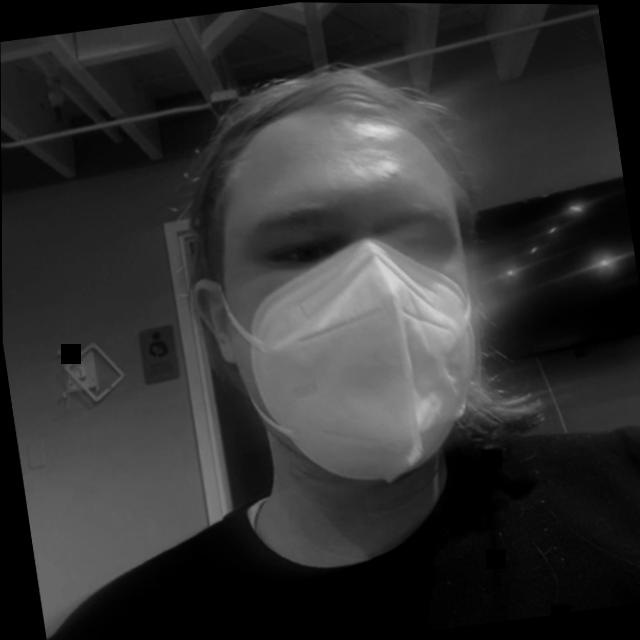Mask: (119, 34, 576, 602)
